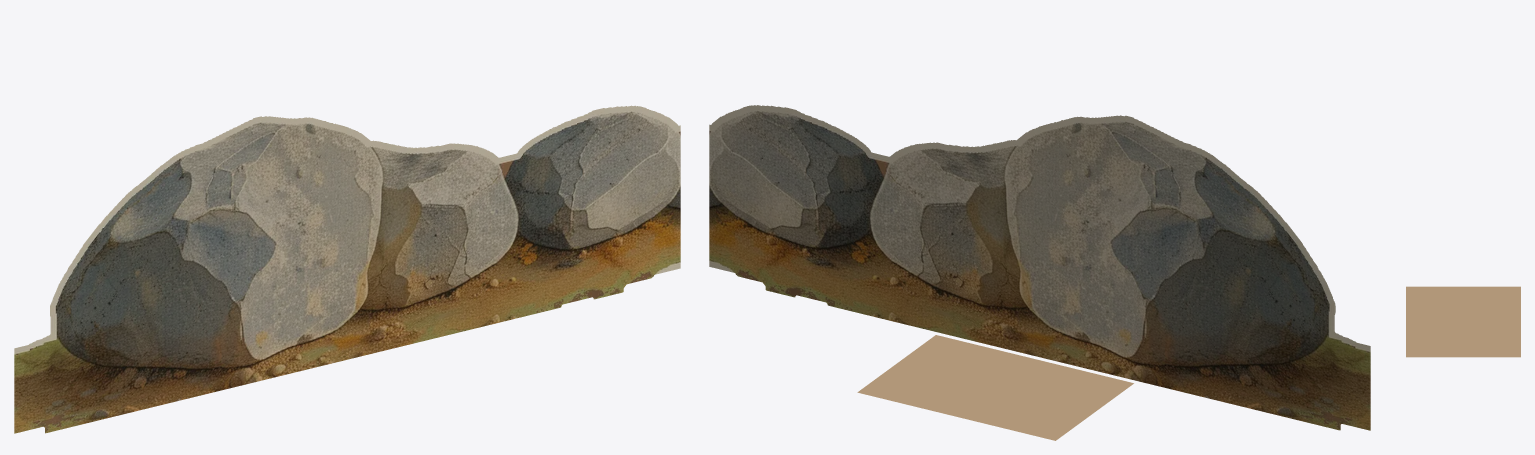
File: toad-prop-dry-stones.glb
3 renders of one model, left to right at view 1: azimuth 30°, elevation 25°; view 2: azimuth 150°, elevation 25°; view 3: azimuth 270°, elevation 25°, orthographic. The views are drawn at different scales.
Visible parts, largest first — view 1: dry-stones; view 2: dry-stones; view 3: dry-stones.
Boxes of the visible parts, x1,y1,x2,y2 form: dry-stones: [14, 105, 680, 433]; dry-stones: [709, 105, 1370, 440]; dry-stones: [1406, 286, 1520, 357].
Bounding box in the file's own units: 0.16 × 0.0607 × 0.035.
Materials: 1 (1 with a texture image).
